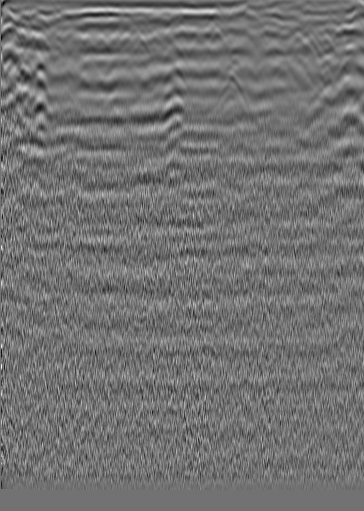가스: (204, 73, 253, 121)
상수: (307, 21, 327, 41)
오수: (32, 30, 52, 50)
우수: (161, 23, 181, 43)
